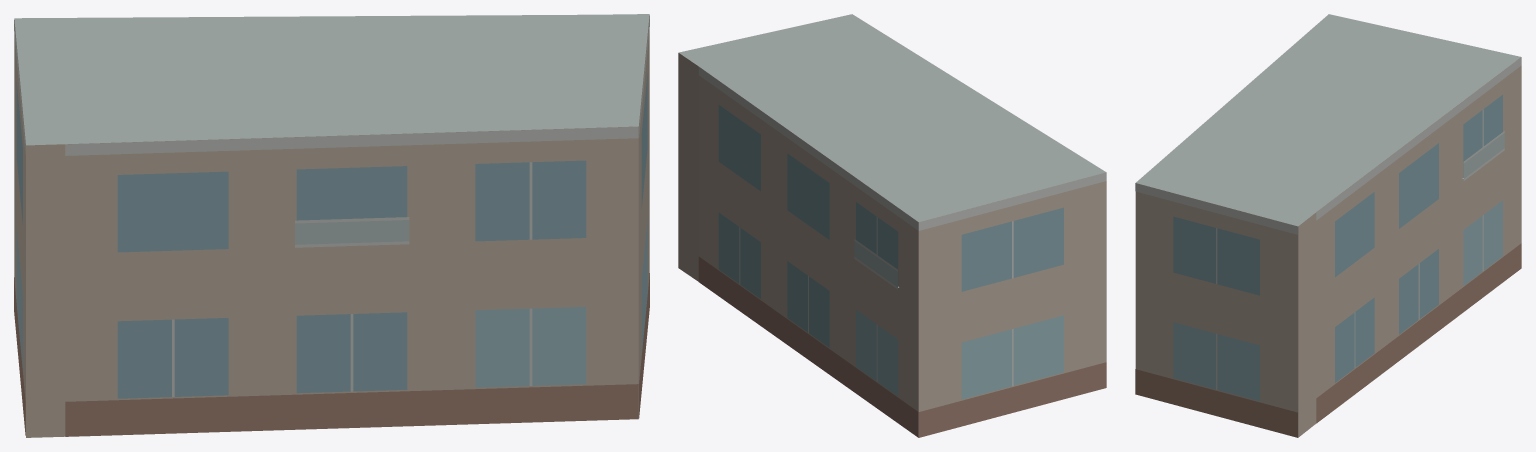
The model's file is survey-upis-32690794.glb.
The picture shows the model from 3 angles, left to right: view 1: azimuth 30°, elevation 25°; view 2: azimuth 150°, elevation 25°; view 3: azimuth 270°, elevation 25°; orthographic projection. The views are drawn at different scales.
Parts seen in each view (by area): view 1: survey-upis-32690794.tmp; view 2: survey-upis-32690794.tmp; view 3: survey-upis-32690794.tmp.
Boxes of the visible parts, bbox=[...] form: survey-upis-32690794.tmp: bbox=[14, 14, 649, 437]; survey-upis-32690794.tmp: bbox=[678, 14, 1106, 437]; survey-upis-32690794.tmp: bbox=[1135, 14, 1521, 437].
Size of the model in its own units: 13.15 by 6.1 by 10.1.
